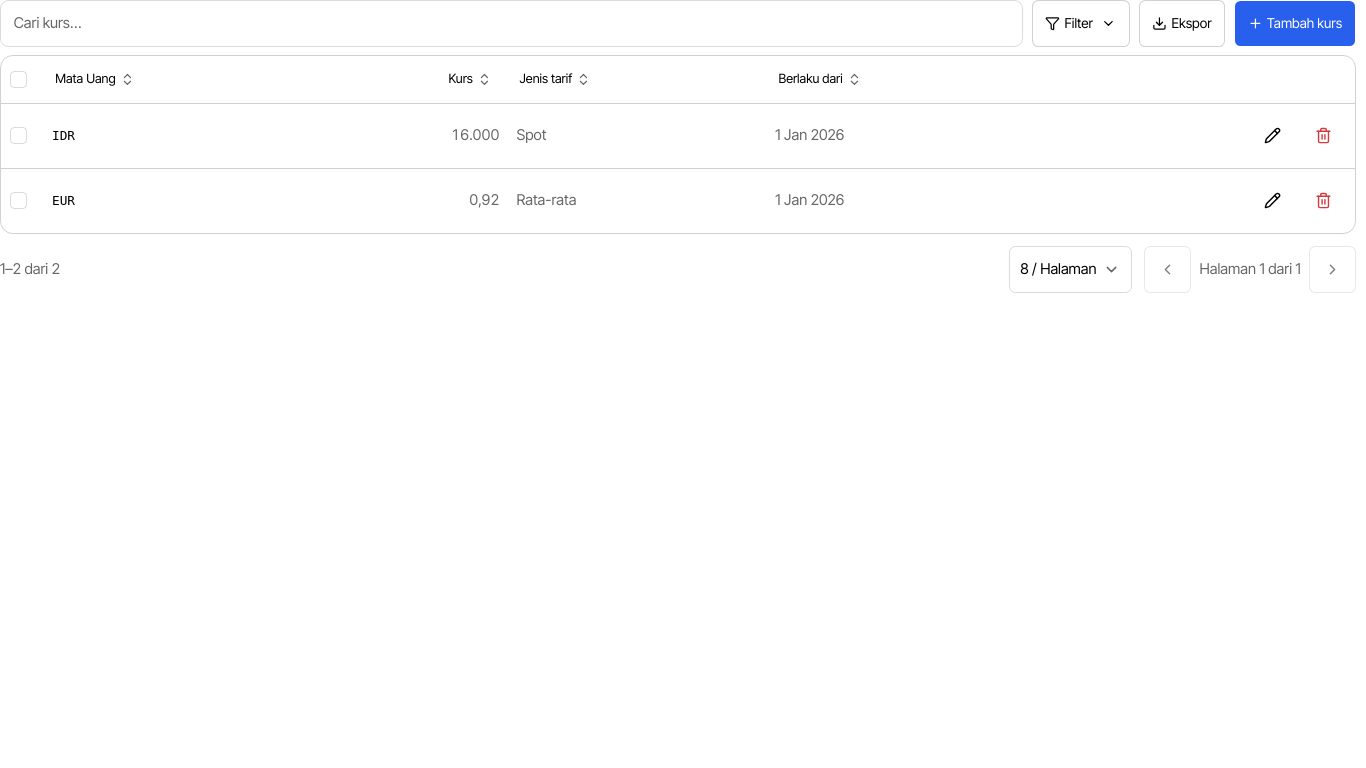
FxRatesSection › deletes an exchange rate after confirmation
The width and height of the screenshot is (1366, 768).
Expected: the text "IDR" is shown, [52,128,75,143]
Step 1. Click the button named "Hapus" in the row of "IDR" → {"x": 1323, "y": 136}, box [1300,112,1347,159]
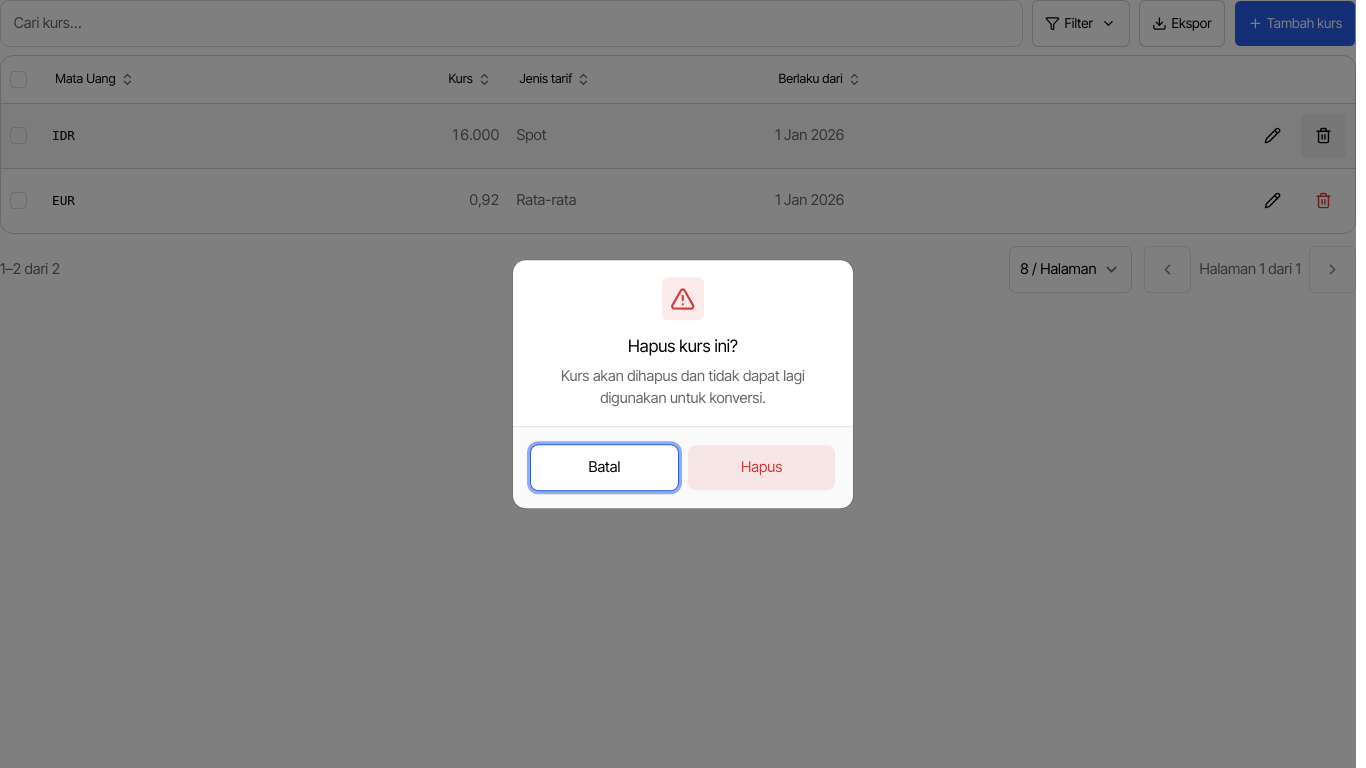
Step 2. Click the button "Hapus" → {"x": 762, "y": 467}, box [687,444,836,491]
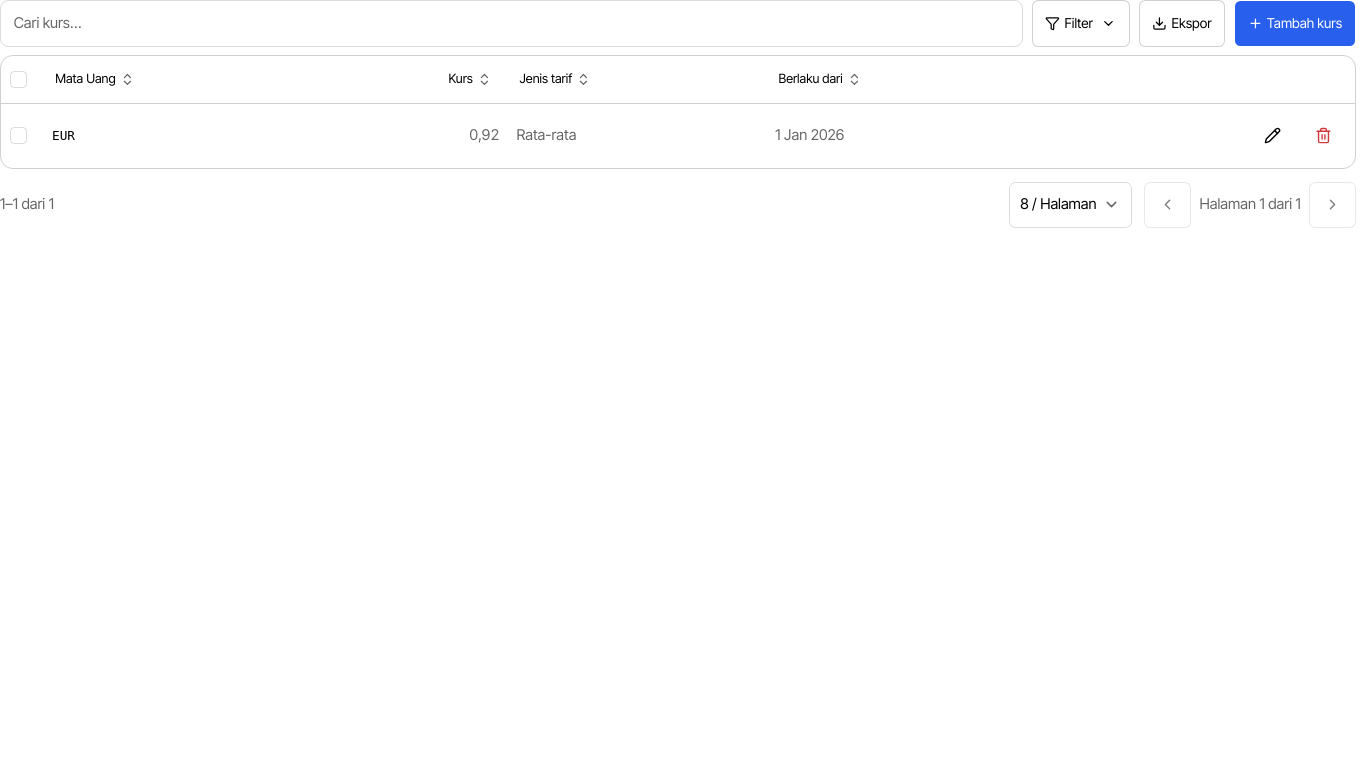
Expected: the text "IDR" is gone
